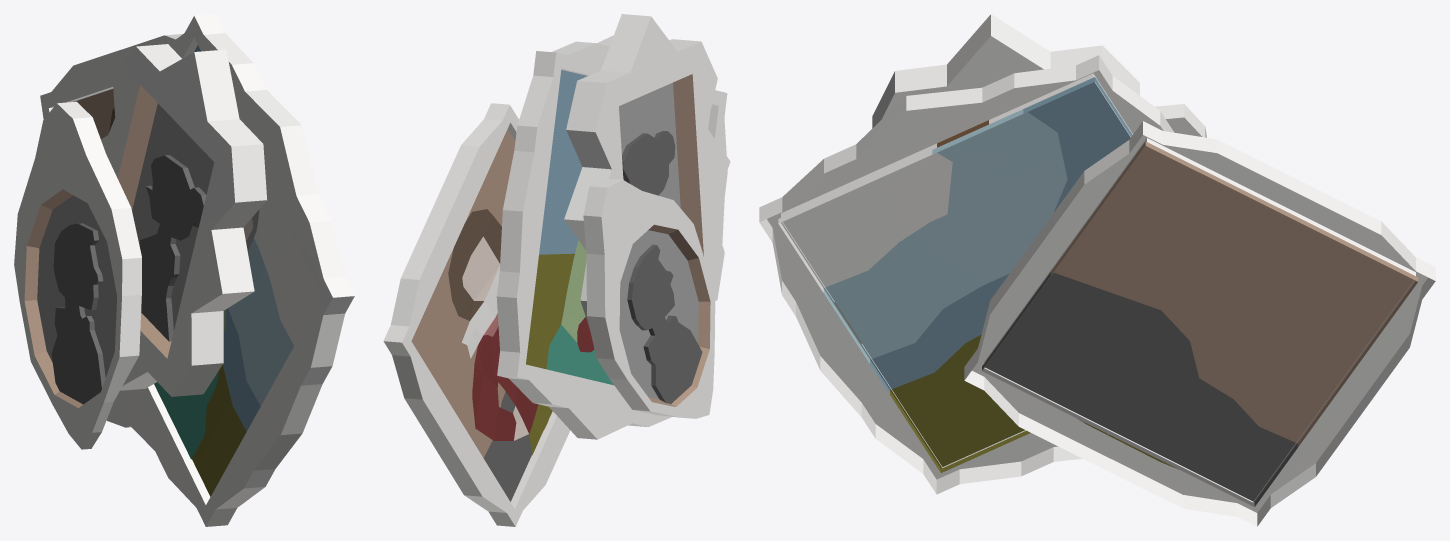
File: Framed Portrait_Classic.fbx
3 renders of one model, left to right at view 1: azimuth 30°, elevation 25°; view 2: azimuth 150°, elevation 25°; view 3: azimuth 270°, elevation 25°, orthographic. The views are drawn at different scales.
Parts seen in each view (by area): view 1: Framed Portrait_Classic.004, Framed Portrait_Classic.003, Framed Portrait_Classic.002, Framed Portrait_Classic.001; view 2: Framed Portrait_Classic.001, Framed Portrait_Classic.004, Framed Portrait_Classic.002, Framed Portrait_Classic.003; view 3: Framed Portrait_Classic.001, Framed Portrait_Classic.004, Framed Portrait_Classic.003, Framed Portrait_Classic.002.
Part boxes in pixels (left/top/right/bottom): Framed Portrait_Classic.004: left=108, top=14, right=354, bottom=526; Framed Portrait_Classic.003: left=101, top=44, right=266, bottom=396; Framed Portrait_Classic.002: left=14, top=101, right=141, bottom=449; Framed Portrait_Classic.001: left=40, top=34, right=182, bottom=427; Framed Portrait_Classic.001: left=383, top=103, right=570, bottom=526; Framed Portrait_Classic.004: left=496, top=35, right=727, bottom=439; Framed Portrait_Classic.002: left=583, top=178, right=715, bottom=418; Framed Portrait_Classic.003: left=564, top=14, right=730, bottom=328; Framed Portrait_Classic.001: left=964, top=121, right=1435, bottom=526; Framed Portrait_Classic.004: left=759, top=55, right=1174, bottom=494; Framed Portrait_Classic.003: left=872, top=14, right=1139, bottom=128; Framed Portrait_Classic.002: left=1155, top=104, right=1206, bottom=137.
Size of the model in its own units: 234 by 554 by 691.
